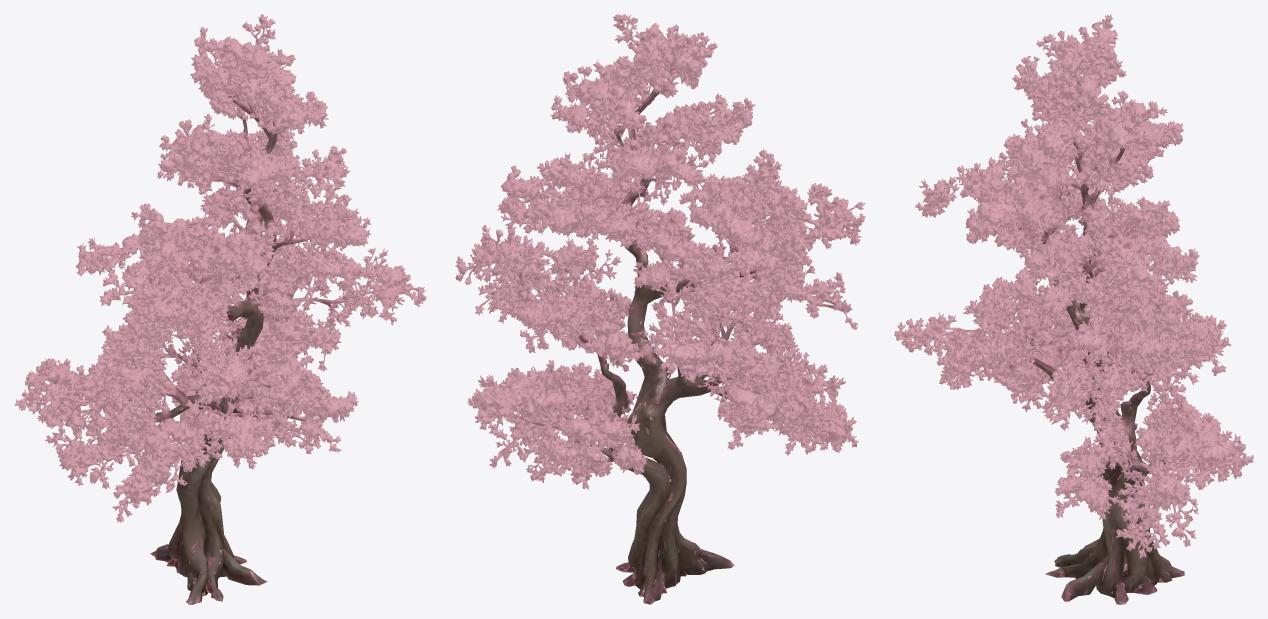
File: Meshy_AI_tree_cherry_blossom_0823014438_image-to-3d-texture.glb
3 views of the same model, side by side, from view 1: azimuth 30°, elevation 25°; view 2: azimuth 150°, elevation 25°; view 3: azimuth 270°, elevation 25° (orthographic). The views are drawn at different scales.
Size of the model in its own units: 1.35 by 1.9 by 1.09.
1 material, 1 textured.
